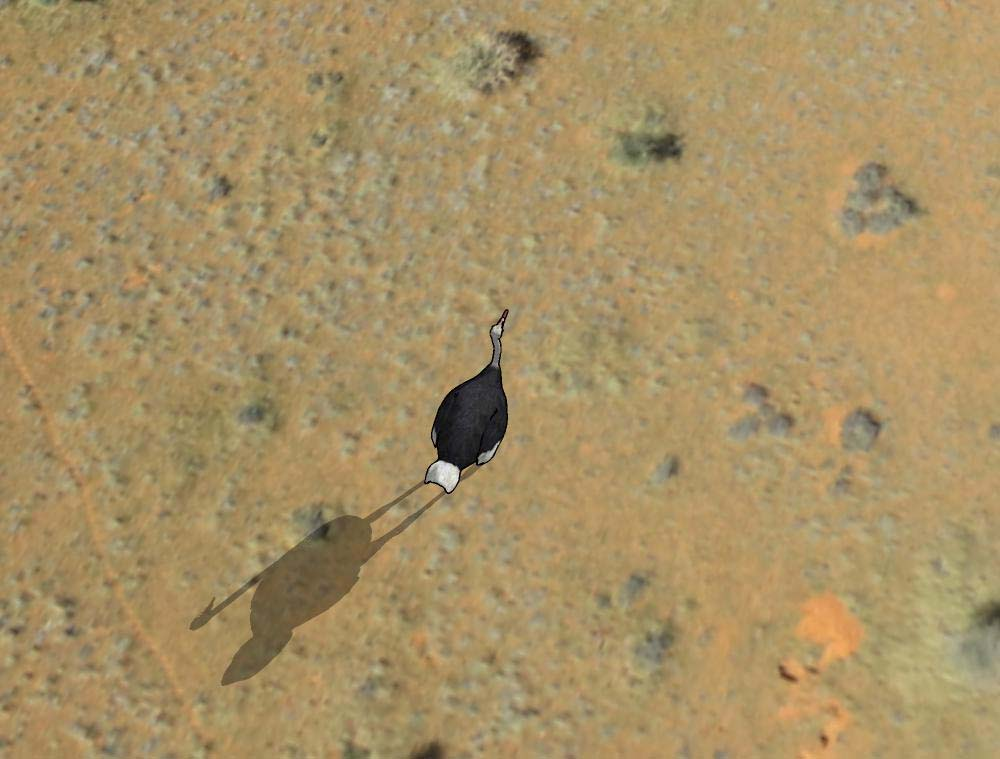ostrich: (422, 306, 524, 494)
